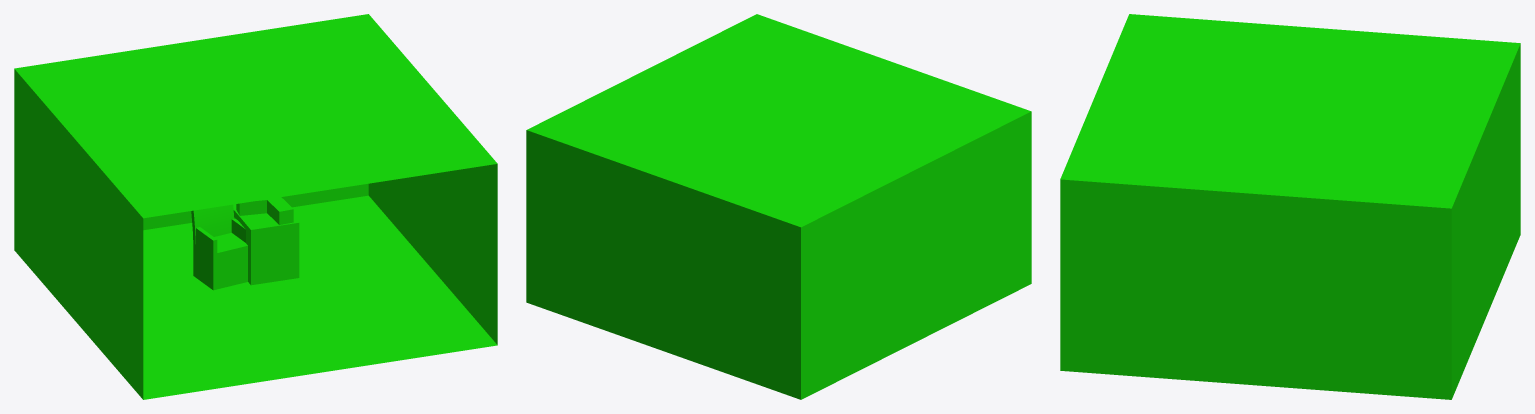
Rendered from EnvGuideRoom.fbx.
3 views of the same model, side by side, from view 1: azimuth 30°, elevation 25°; view 2: azimuth 150°, elevation 25°; view 3: azimuth 270°, elevation 25° (orthographic). The views are drawn at different scales.
Parts seen in each view (by area): view 1: Room, Chair, Desk, DeskTopBarrier01, DeskTopBarrier02; view 2: Room; view 3: Room.
Boxes of the visible parts, bbox=[...] form: Room: bbox=[14, 14, 497, 399]; Chair: bbox=[191, 204, 247, 290]; Desk: bbox=[233, 204, 299, 285]; DeskTopBarrier01: bbox=[267, 197, 293, 224]; DeskTopBarrier02: bbox=[236, 198, 275, 215]; Room: bbox=[526, 14, 1031, 399]; Room: bbox=[1060, 14, 1520, 399].
Bounding box in the file's own units: 528 × 242 × 528.
